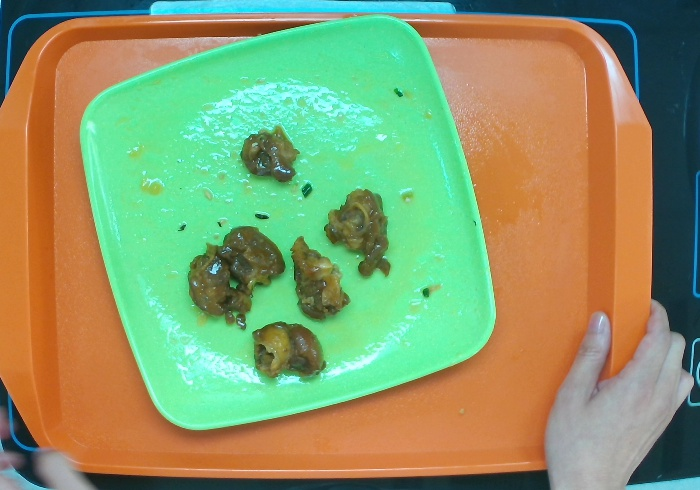ZNLD-Lv_Fang_Pan: (78, 11, 499, 431)
